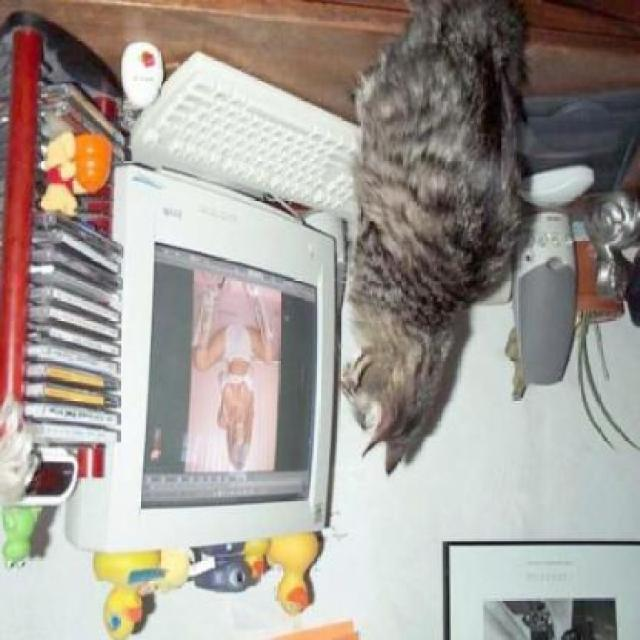cat: (312, 0, 546, 488)
